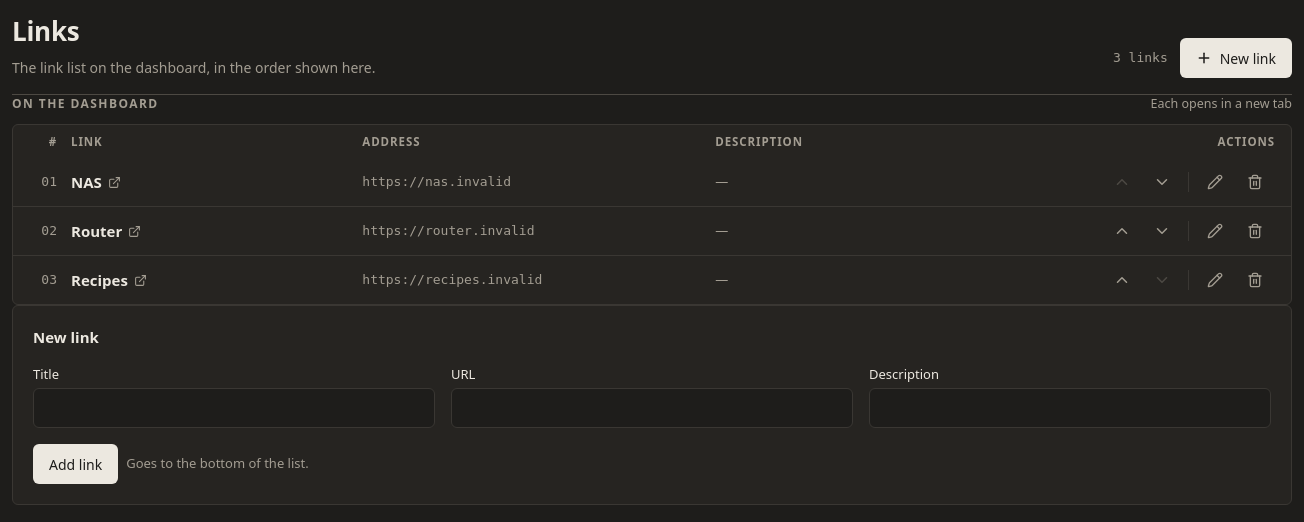
it: AdminLinksPage › Edit opens the form inside the row, and Cancel brings back the add form
Expected: the text "NAS" is shown, [71,171,102,193]
Expected: the form "New link" is shown, [12,305,1292,505]
Click the button named "Edit NAS".
click(1215, 182)  # box [1195,162,1235,202]
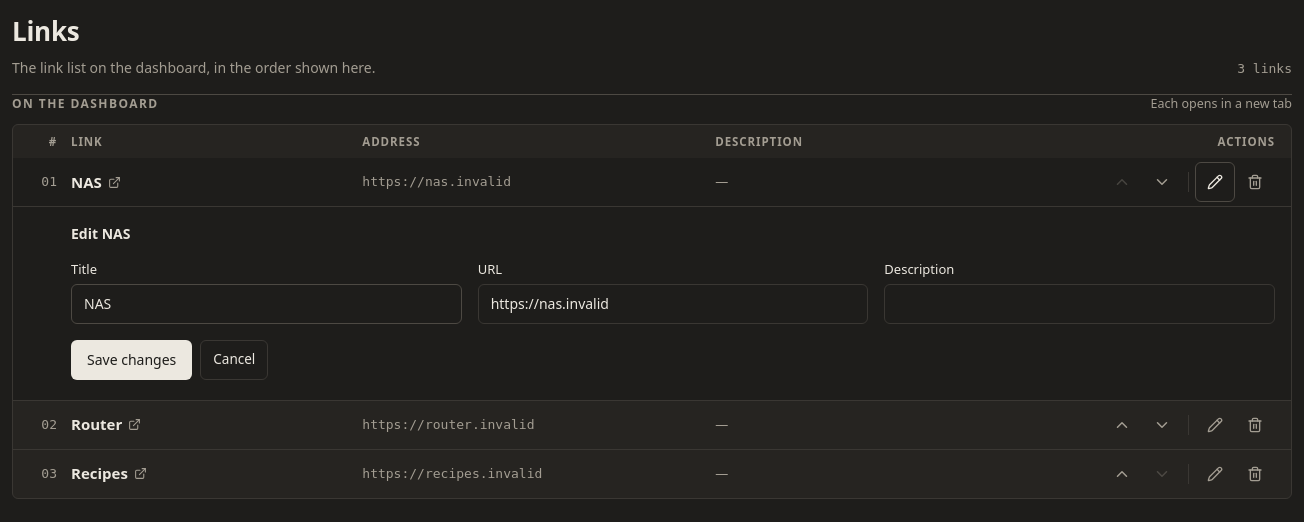
Expected: the number of forms is 1, [13,206,1291,400]
Expected: the form "Edit NAS" is shown, [13,206,1291,400]
Expected: the button "New link" is gone
Click the button "Cancel".
click(234, 360)  # box [200,340,268,380]
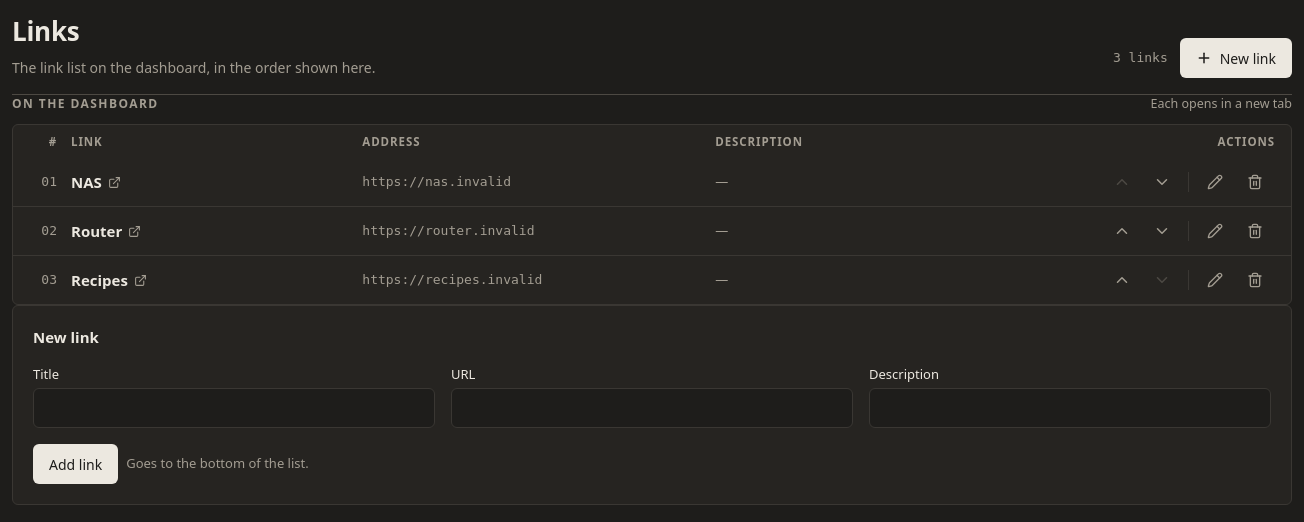
Expected: the number of forms is 1, [12,305,1292,505]
Expected: the form "New link" is shown, [12,305,1292,505]
